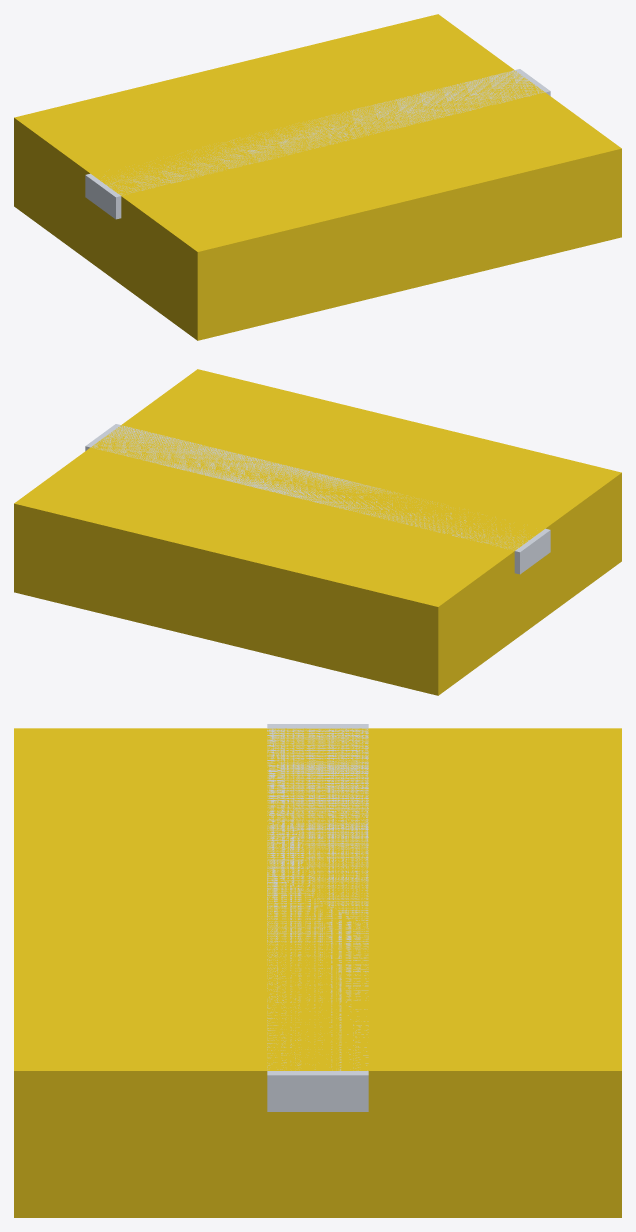
File: folded_vest.glb
3 renders of one model, top to bottom at view 1: azimuth 30°, elevation 25°; view 2: azimuth 150°, elevation 25°; view 3: azimuth 270°, elevation 25°, orthographic. The views are drawn at different scales.
Parts seen in each view (by area): view 1: vest_vest_yellow, stripes_vest_stripe; view 2: vest_vest_yellow, stripes_vest_stripe; view 3: vest_vest_yellow, stripes_vest_stripe.
Boxes of the visible parts, bbox=[...] form: vest_vest_yellow: bbox=[14, 14, 621, 340]; stripes_vest_stripe: bbox=[85, 69, 550, 219]; vest_vest_yellow: bbox=[14, 369, 621, 695]; stripes_vest_stripe: bbox=[85, 424, 550, 574]; vest_vest_yellow: bbox=[14, 728, 621, 1217]; stripes_vest_stripe: bbox=[267, 724, 368, 1111].
Size of the model in its own units: 0.41 by 0.08 by 0.3.
